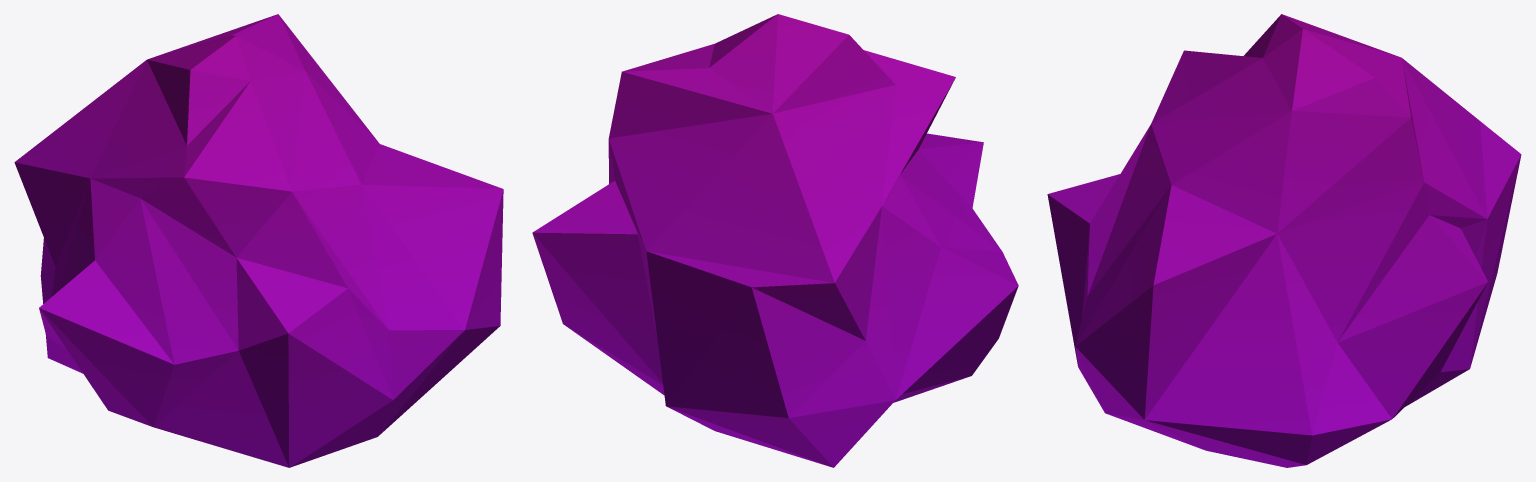
Rendered from SM_Plant_Bush_03.gltf.
The picture shows the model from 3 angles, left to right: view 1: azimuth 30°, elevation 25°; view 2: azimuth 150°, elevation 25°; view 3: azimuth 270°, elevation 25°; orthographic projection. The views are drawn at different scales.
Visible parts, largest first — view 1: SM_Plant_Bush_03; view 2: SM_Plant_Bush_03; view 3: SM_Plant_Bush_03.
Boxes of the visible parts, left/top/right/bottom form: SM_Plant_Bush_03: left=14, top=14, right=503, bottom=467; SM_Plant_Bush_03: left=532, top=14, right=1018, bottom=467; SM_Plant_Bush_03: left=1047, top=14, right=1521, bottom=467.
Size of the model in its own units: 2.08 by 1.87 by 2.
